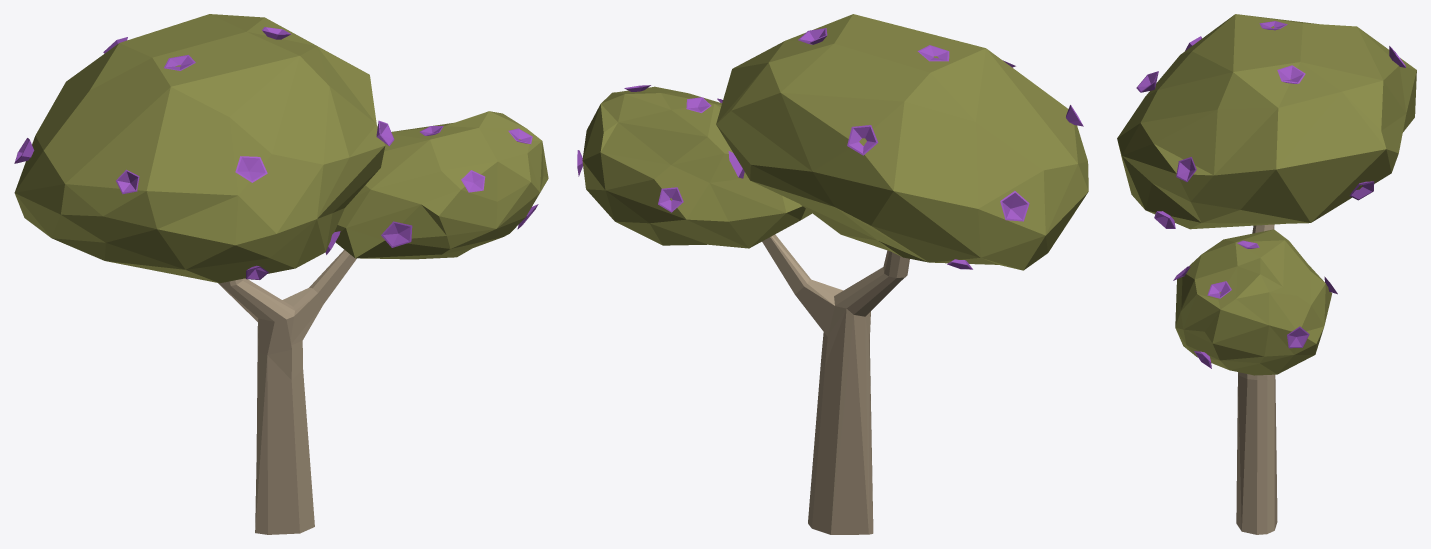
The model's file is greek_bush_1.fbx.
The picture shows the model from 3 angles, left to right: view 1: azimuth 30°, elevation 25°; view 2: azimuth 150°, elevation 25°; view 3: azimuth 270°, elevation 25°; orthographic projection. The views are drawn at different scales.
Visible parts, largest first — view 1: Icosphere.003, Icosphere.011; view 2: Icosphere.003, Icosphere.011; view 3: Icosphere.003, Icosphere.011.
Boxes of the visible parts, box(x1,y1,x2,y2) form: Icosphere.003: box(14, 14, 548, 534); Icosphere.011: box(14, 27, 538, 279); Icosphere.003: box(582, 14, 1088, 534); Icosphere.011: box(577, 28, 1083, 269); Icosphere.003: box(1117, 14, 1416, 534); Icosphere.011: box(1136, 21, 1405, 368).
Size of the model in its own units: 210 by 205 by 123.
